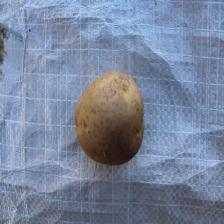Diseased-fungal potato: (74, 69, 145, 166)
